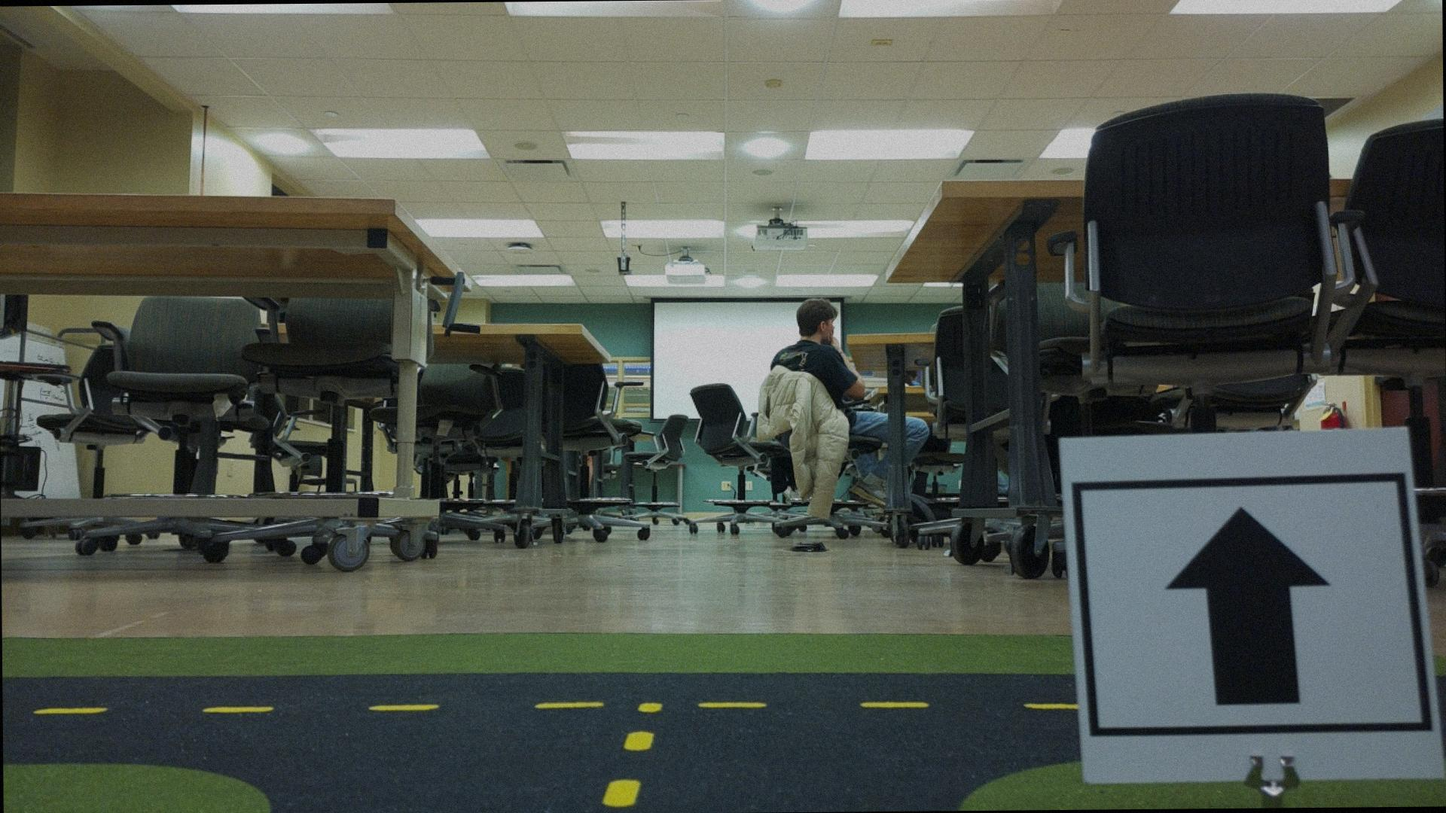gostraight: (1081, 431, 1414, 779)
yellowline: (2, 698, 1078, 720), (600, 696, 664, 809)
